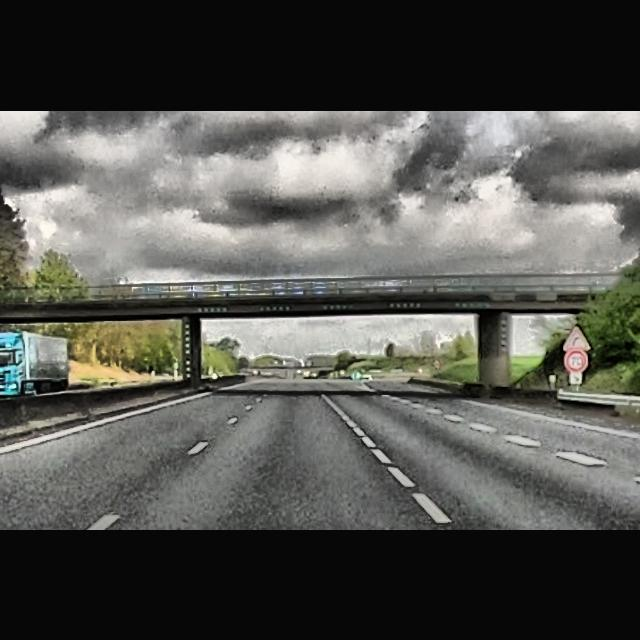speed_70: (566, 350, 588, 370)
